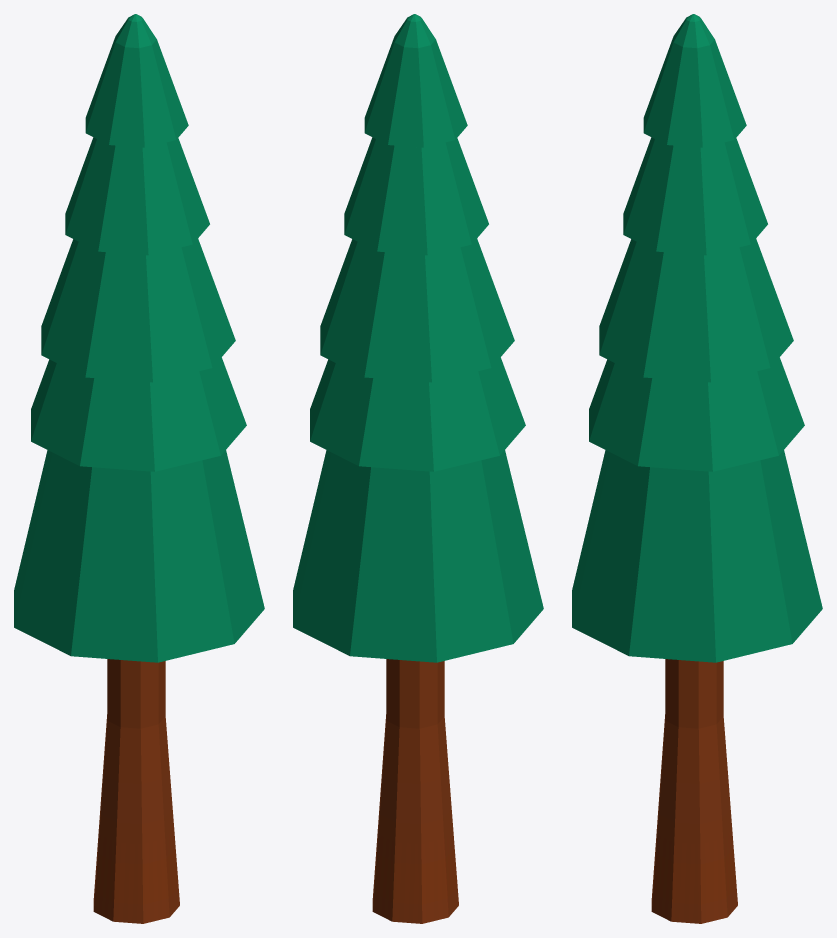
Rendered from big tree.glb.
3 renders of one model, left to right at view 1: azimuth 30°, elevation 25°; view 2: azimuth 150°, elevation 25°; view 3: azimuth 270°, elevation 25°, orthographic.
Parts seen in each view (by area): view 1: big tree, big tree.004, big tree.001, big tree.005, big tree.003, big tree.002; view 2: big tree, big tree.004, big tree.001, big tree.005, big tree.003, big tree.002; view 3: big tree, big tree.004, big tree.001, big tree.005, big tree.003, big tree.002.
Part boxes in pixels (x1,y1,x2,y2): big tree: (14,450,264,662); big tree.004: (41,238,235,382); big tree.001: (93,659,179,923); big tree.005: (31,357,246,471); big tree.003: (65,137,209,255); big tree.002: (85,14,188,147); big tree: (293,450,543,662); big tree.004: (320,238,514,382); big tree.001: (372,659,458,923); big tree.005: (310,357,525,471); big tree.003: (344,137,488,255); big tree.002: (364,14,467,147); big tree: (572,450,822,662); big tree.004: (599,238,793,382); big tree.001: (651,659,737,923); big tree.005: (589,357,804,471); big tree.003: (623,137,767,255); big tree.002: (643,14,746,147).
Size of the model in its own units: 2.6 by 10.05 by 2.56.
1 material, 1 textured.
